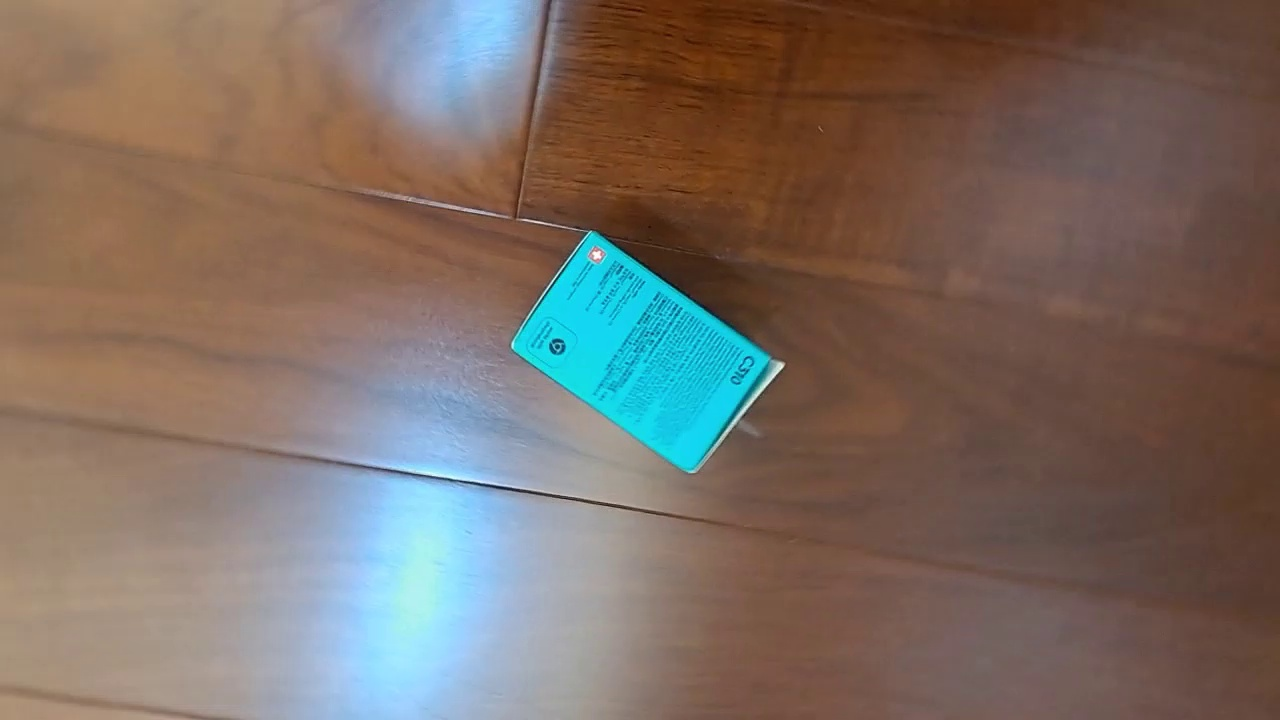webcam: (508, 228, 787, 476)
